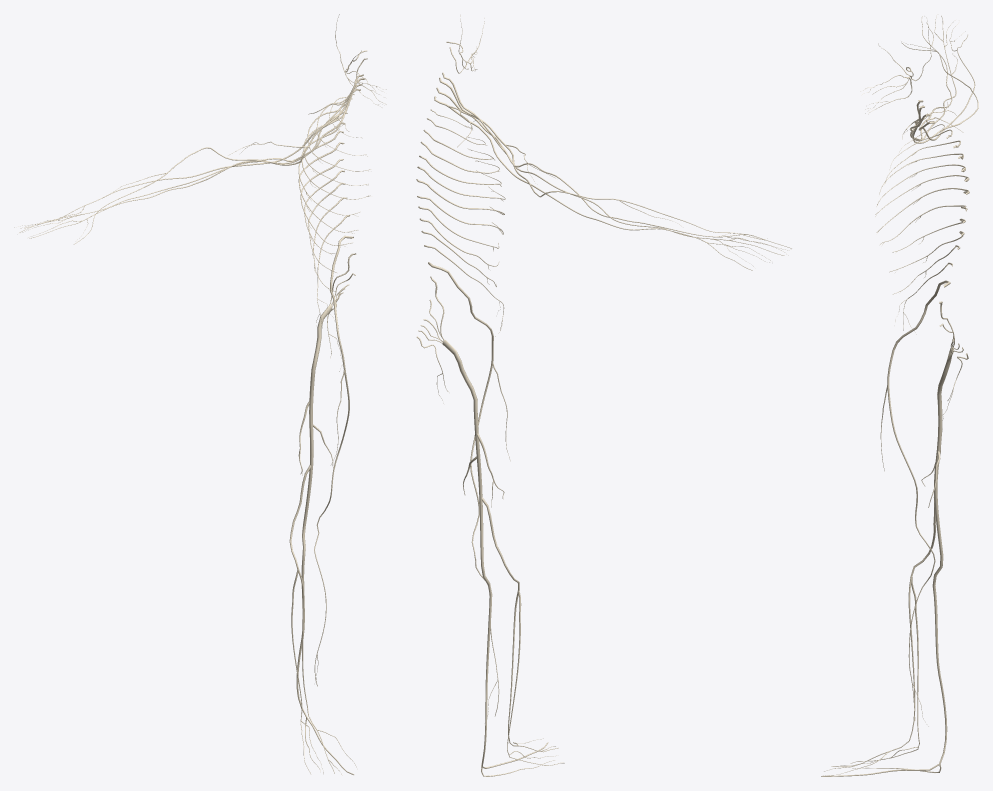
The model's file is Nerves_Right.fbx.
3 views of the same model, side by side, from view 1: azimuth 30°, elevation 25°; view 2: azimuth 150°, elevation 25°; view 3: azimuth 270°, elevation 25° (orthographic). The views are drawn at different scales.
Parts seen in each view (by area): view 1: Nerves_Right; view 2: Nerves_Right; view 3: Nerves_Right.
Boxes of the visible parts, x1,y1,x2,y2 form: Nerves_Right: (14, 14, 386, 775); Nerves_Right: (416, 15, 791, 776); Nerves_Right: (821, 14, 978, 776).
Size of the model in its own units: 86.67 by 175 by 32.28.
